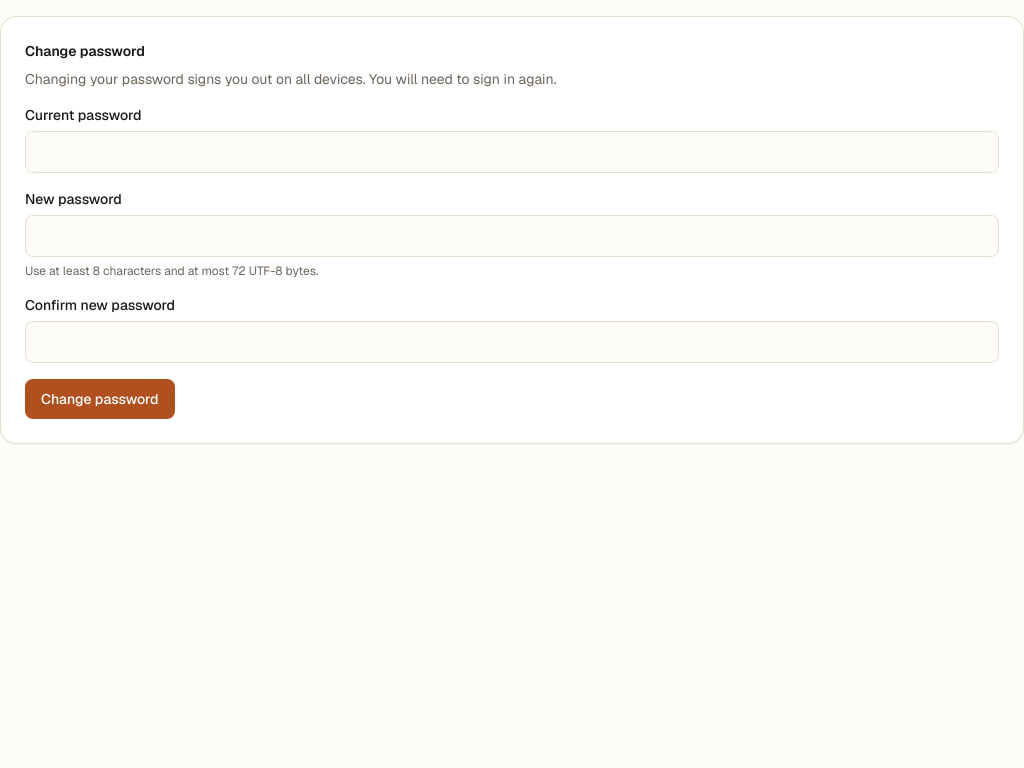
Test case: profile password form › offers sign-in when the current session expires
The image size is (1024, 768).
Type "old password" into the password field labelled "Current password" at (512, 152), box [25, 131, 999, 173]
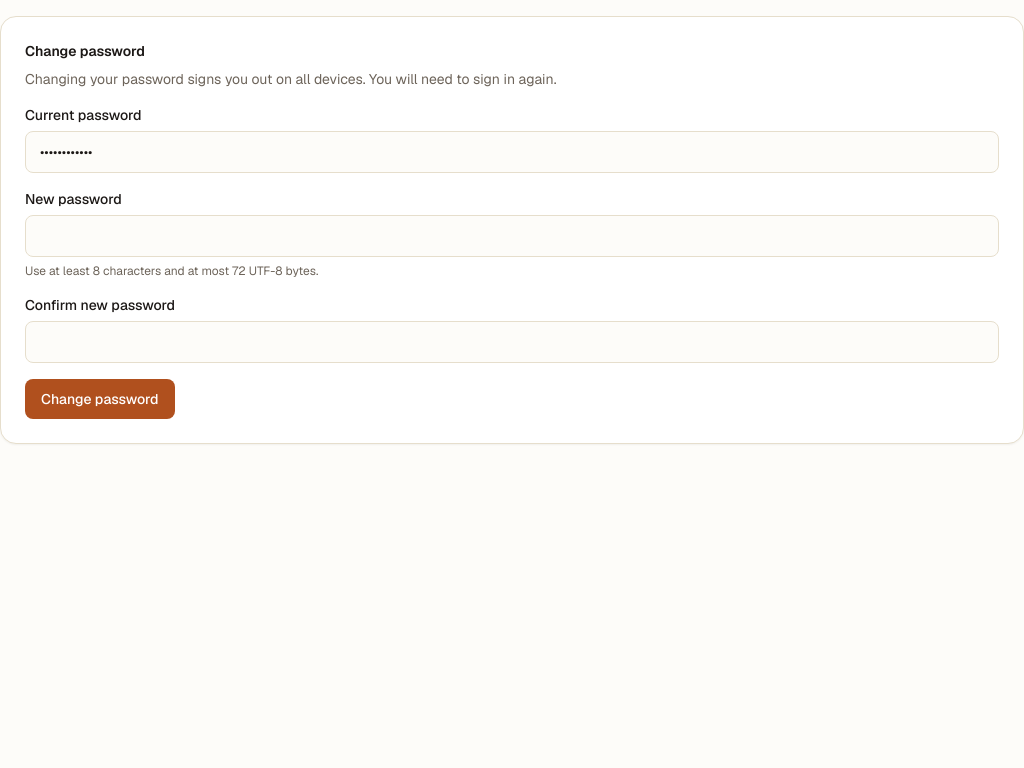
Type "new password" into the password field labelled "New password" at (512, 236), box [25, 215, 999, 257]
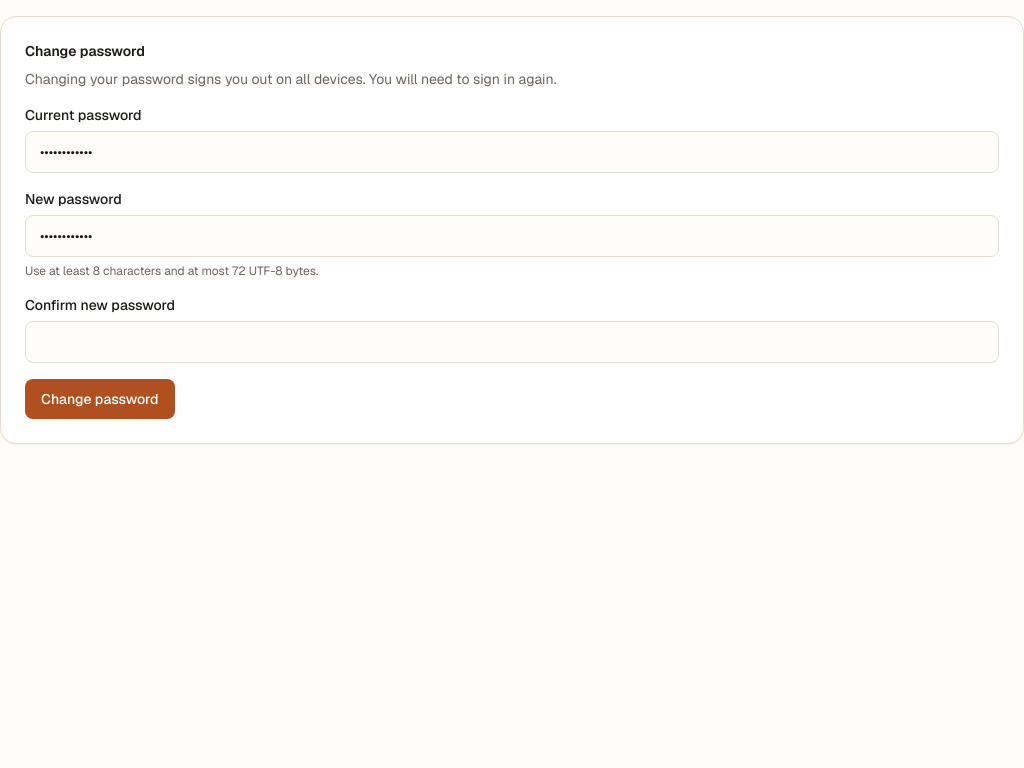
Type "new password" into the password field labelled "Confirm new password" at (512, 342), box [25, 321, 999, 363]
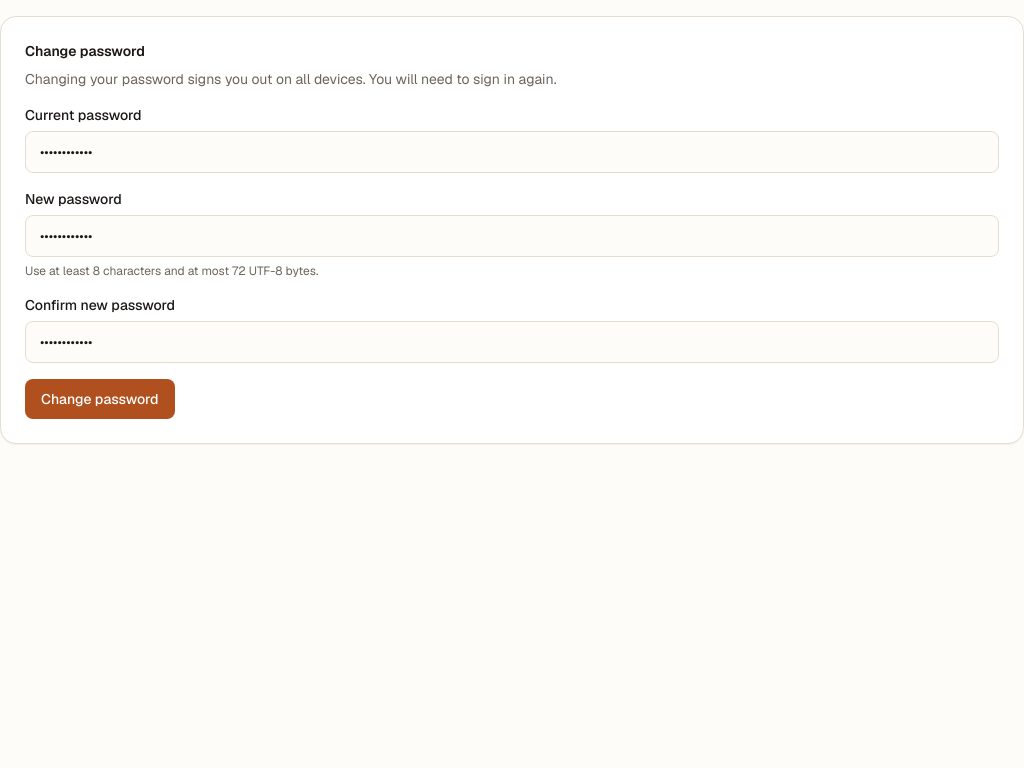
Submit the form named "Change password", box [25, 69, 999, 419]
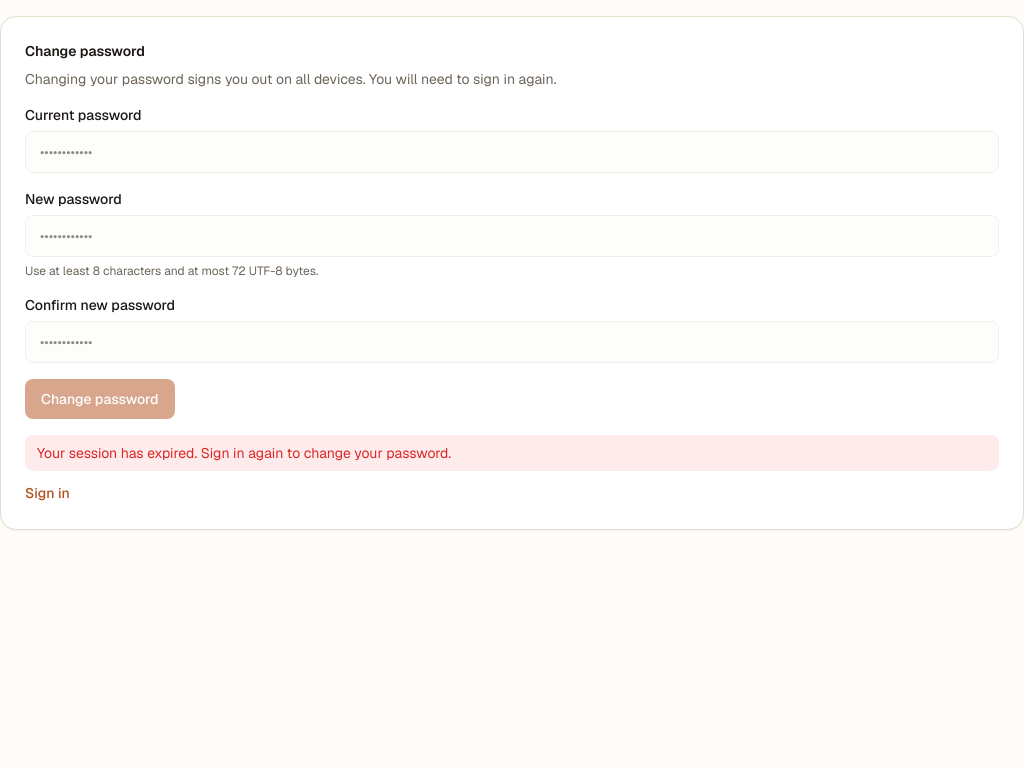
Expected: the button "Change password" is disabled, [25, 379, 174, 419]
Now the message shows "Your session has expired.", box [37, 444, 451, 462]
